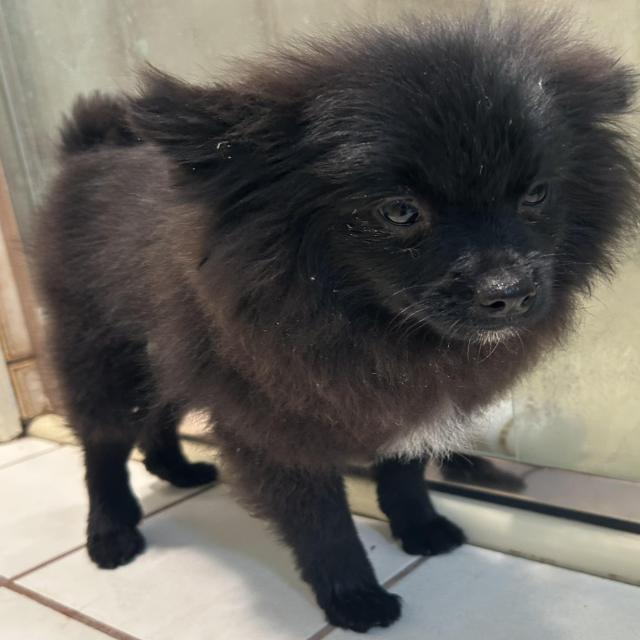pomeranian_dog: (157, 22, 613, 364)
